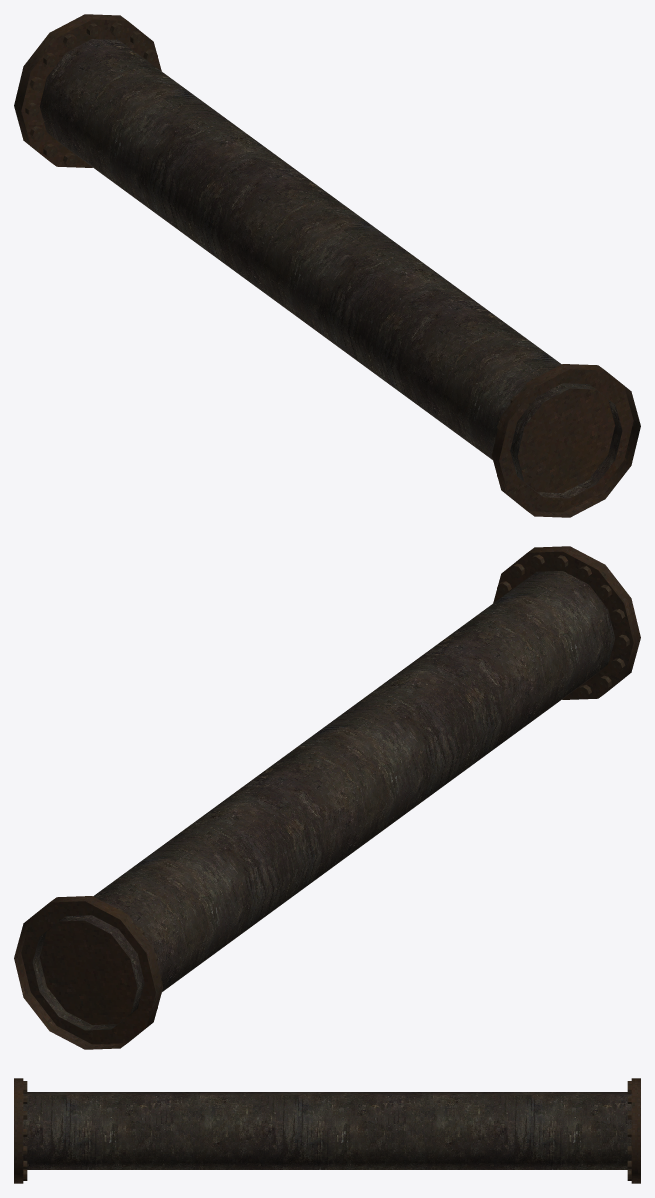
The model's file is pipe_bx_1.glb.
The picture shows the model from 3 angles, top to bottom: view 1: azimuth 30°, elevation 25°; view 2: azimuth 150°, elevation 25°; view 3: azimuth 270°, elevation 25°; orthographic projection. The views are drawn at different scales.
Visible parts, largest first — view 1: pipe_bx_1; view 2: pipe_bx_1; view 3: pipe_bx_1.
Boxes of the visible parts, x1=… form: pipe_bx_1: x1=14, y1=14, x2=640, y2=517; pipe_bx_1: x1=14, y1=546, x2=640, y2=1049; pipe_bx_1: x1=14, y1=1078, x2=640, y2=1183.
Size of the model in its own units: 0.676 by 0.676 by 4.
Materials: 2 (2 with a texture image).
